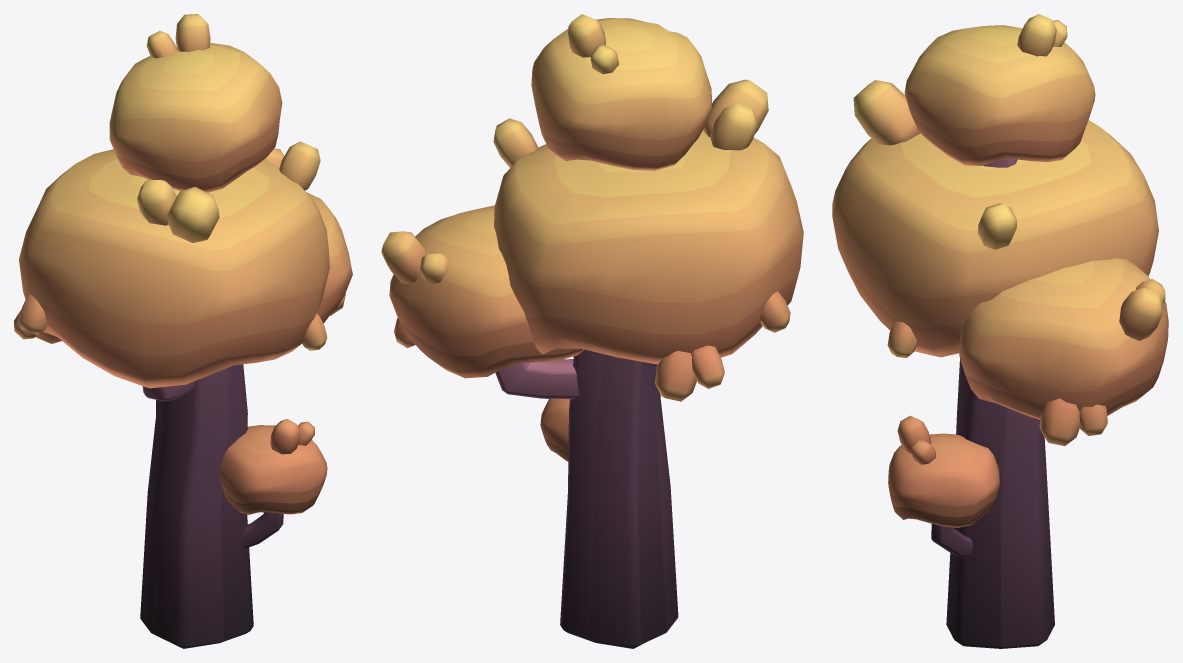
The model's file is grassland_tree_col2_6.fbx.
The picture shows the model from 3 angles, left to right: view 1: azimuth 30°, elevation 25°; view 2: azimuth 150°, elevation 25°; view 3: azimuth 270°, elevation 25°; orthographic projection. The views are drawn at different scales.
Parts seen in each view (by area): view 1: grassland_tree_col2_6; view 2: grassland_tree_col2_6; view 3: grassland_tree_col2_6.
Boxes of the visible parts, left/top/right/bottom form: grassland_tree_col2_6: left=14, top=14, right=352, bottom=648; grassland_tree_col2_6: left=381, top=14, right=803, bottom=648; grassland_tree_col2_6: left=832, top=14, right=1168, bottom=648.
Bounding box in the file's own units: 651 × 1081 × 531.
